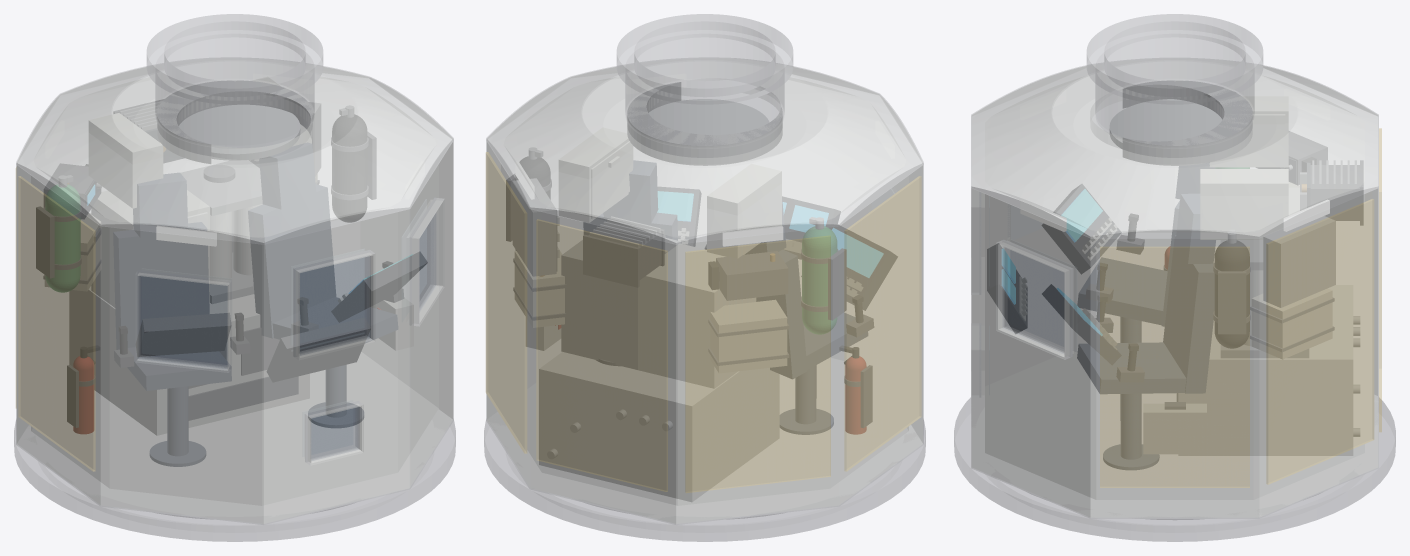
Rendered from cmd09_lander_cabin_combined.glb.
The picture shows the model from 3 angles, left to right: view 1: azimuth 30°, elevation 25°; view 2: azimuth 150°, elevation 25°; view 3: azimuth 270°, elevation 25°; orthographic projection.
Visible parts, largest first — view 1: pressure_vessel, ext_cabin_structure, ext_roof, ext_docking_tunnel, ext_mli_panels, ext_windows, seat_1, seat_2, ext_base_ring, eq07_1_body, hatch_tunnel_1, stowage_lockers (+21 smaller); view 2: pressure_vessel, ext_mli_panels, ext_cabin_structure, ext_roof, eq07_1_body, ext_docking_tunnel, ext_base_ring, stowage_lockers, eq21_1_body, eq08_1_frame, seat_1, hatch_tunnel_1 (+23 smaller); view 3: pressure_vessel, ext_cabin_structure, ext_mli_panels, ext_roof, ext_docking_tunnel, eq07_1_body, seat_2, ext_base_ring, stowage_lockers, hatch_tunnel_1, seat_1, eq06_1_enclosure (+17 smaller).
Part boxes in pixels (x1,y1,x2,y2): pressure_vessel: (17,59,452,523); ext_cabin_structure: (16,140,453,524); ext_roof: (16,57,453,244); ext_docking_tunnel: (147,14,322,147); ext_mli_panels: (16,167,95,471); ext_windows: (137,213,436,460); seat_1: (113,173,231,466); seat_2: (248,143,397,427); ext_base_ring: (14,420,455,541); eq07_1_body: (69,287,309,435); hatch_tunnel_1: (157,80,312,163); stowage_lockers: (89,77,311,207); pressure_vessel: (487,59,922,523); ext_mli_panels: (486,152,921,492); ext_cabin_structure: (486,140,923,524); ext_roof: (486,57,923,244); eq07_1_body: (539,352,779,501); ext_docking_tunnel: (617,14,792,148); ext_base_ring: (484,420,925,541); stowage_lockers: (559,128,781,258); eq21_1_body: (638,243,755,388); eq08_1_frame: (561,238,681,369); seat_1: (745,201,867,434); hatch_tunnel_1: (627,82,782,165); pressure_vessel: (972,59,1377,517); ext_cabin_structure: (971,117,1378,518); ext_mli_panels: (1100,128,1381,487); ext_roof: (971,58,1378,238); ext_docking_tunnel: (1087,14,1262,148); eq07_1_body: (1178,285,1352,455); seat_2: (1077,194,1215,469); ext_base_ring: (954,397,1395,541); stowage_lockers: (1200,96,1288,239); hatch_tunnel_1: (1122,80,1252,165); seat_1: (1077,163,1214,342); eq06_1_enclosure: (1263,216,1335,307).
Bounding box in the file's own units: 2.5 × 2.48 × 2.5.
